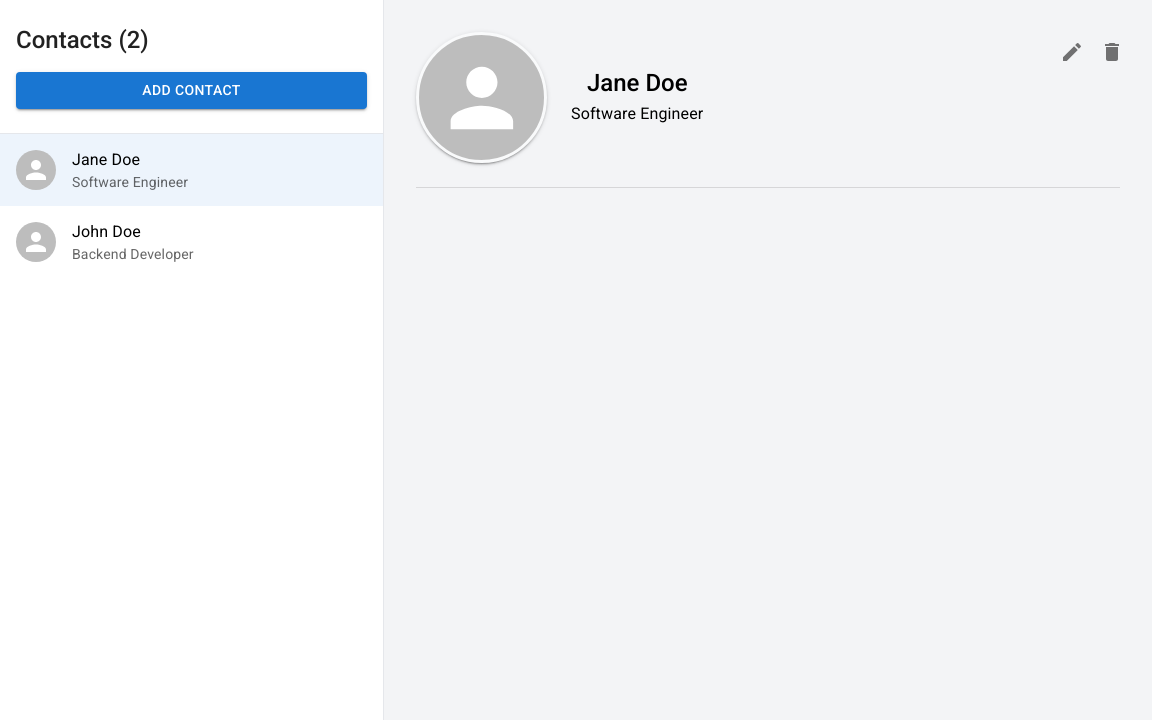
Test case: App Integration Test › creates user
Click the button "Add Contact": click(192, 90) [16, 72, 367, 108]
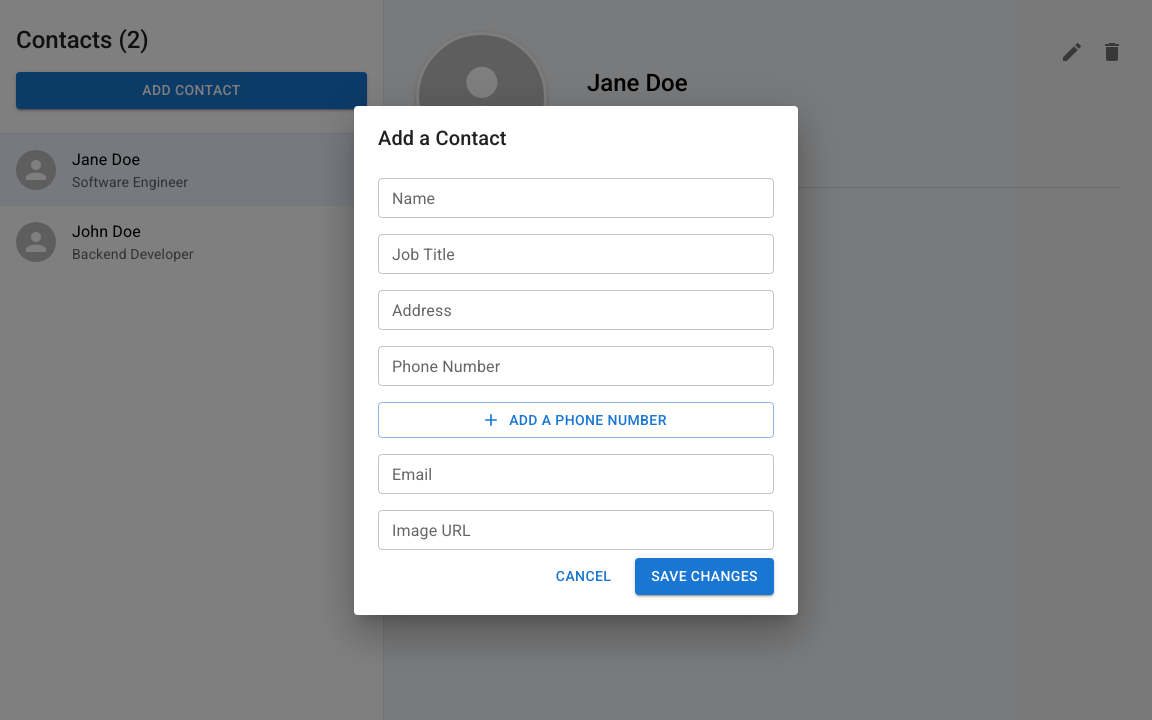
In the field labelled "Name": (576, 198) [378, 178, 774, 218], type "Johnny Appleseed"
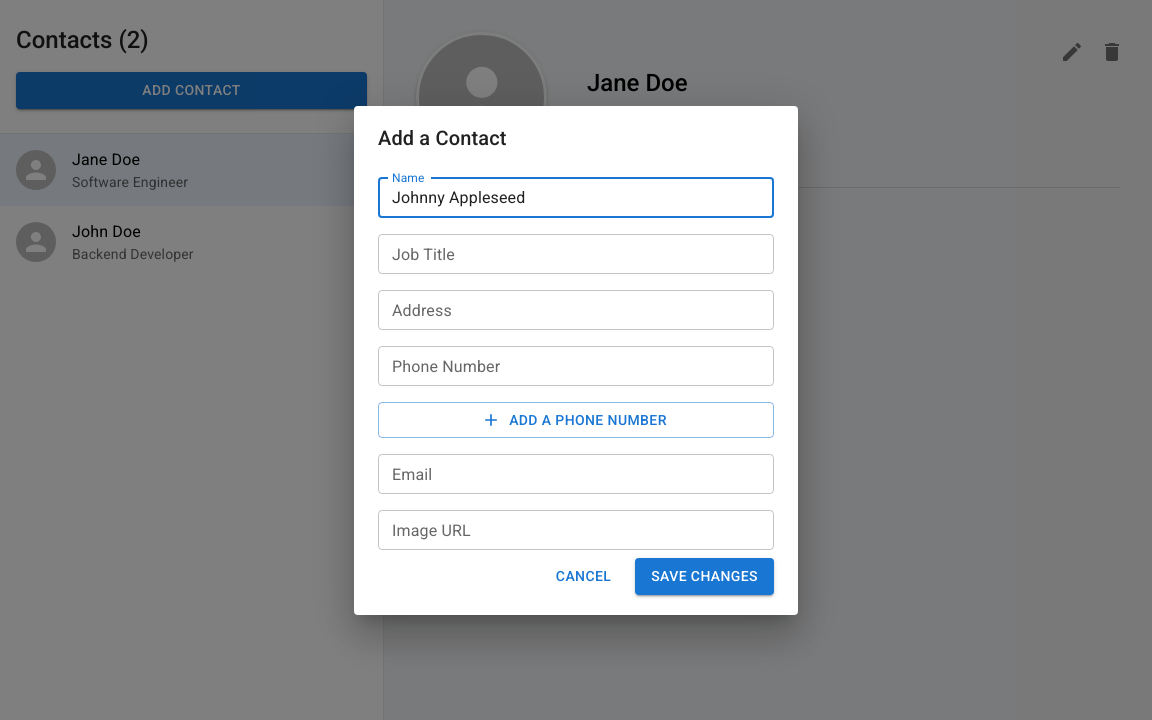
In the field labelled "Job Title": (576, 254) [378, 234, 774, 274], type "Frontend Developer"
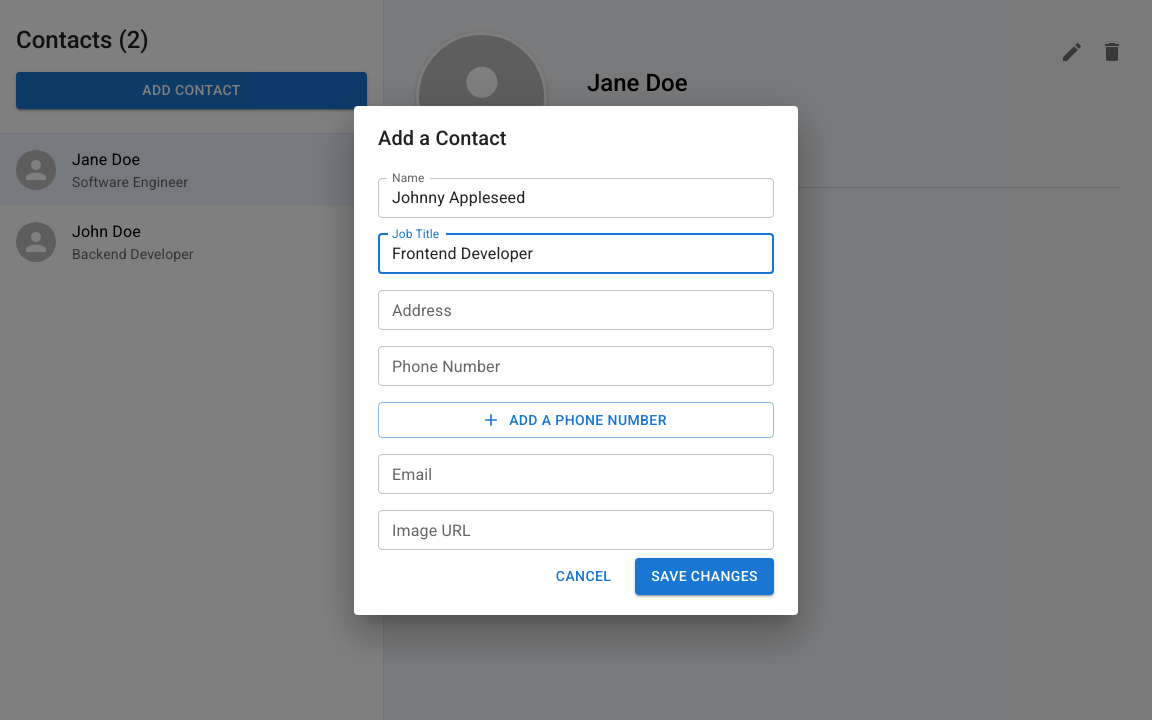
Click the button "Save Changes": click(705, 576) [635, 558, 774, 594]
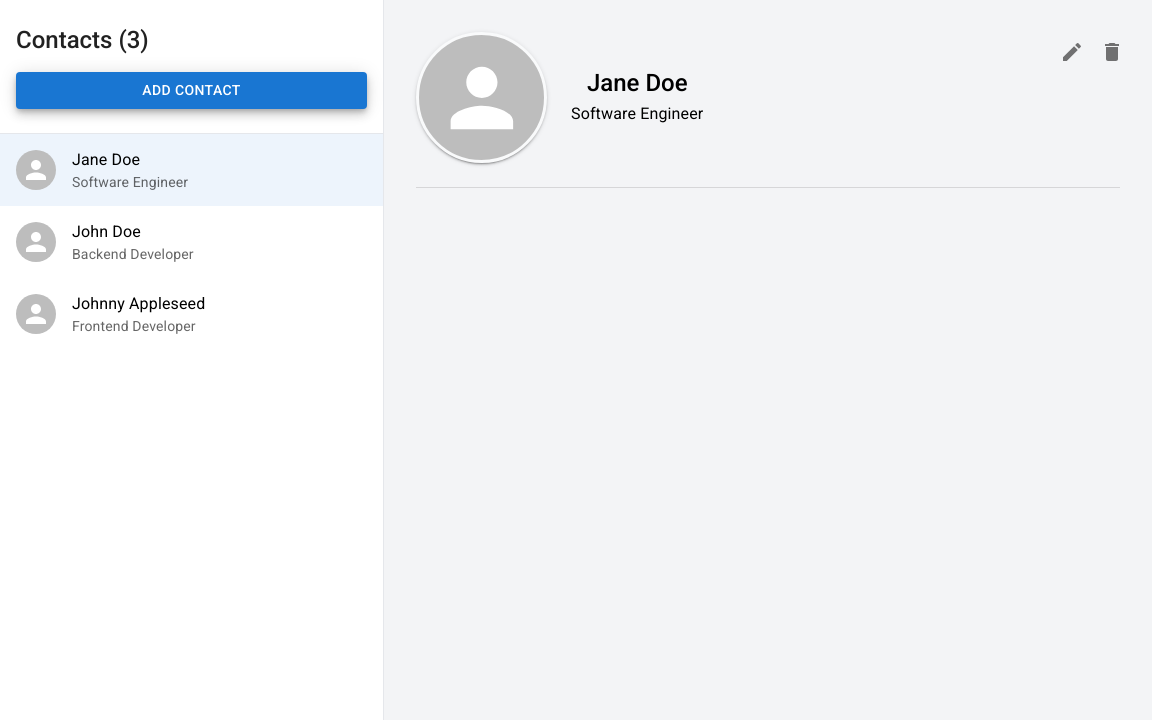
Result: the button "Johnny Appleseed Frontend Developer" is shown at [16, 294, 205, 334]
